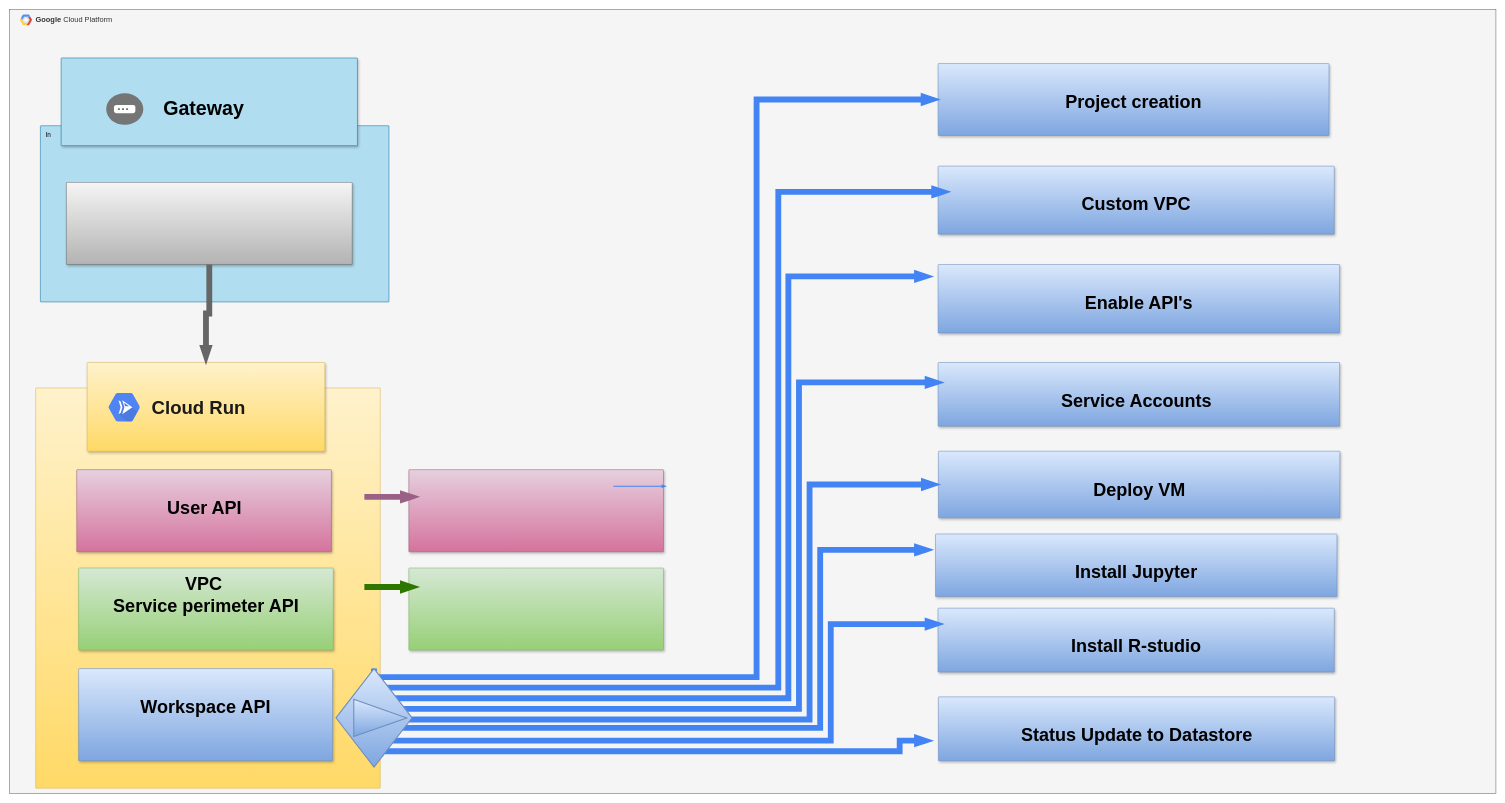
This 1505x803 diagram has some shape labels left out. Each missing label, with the centre of its shape:
"Add User" belongs at (536,511).
"Workspace Controller" belongs at (209,224).
"Workspace Project" belongs at (536,609).
